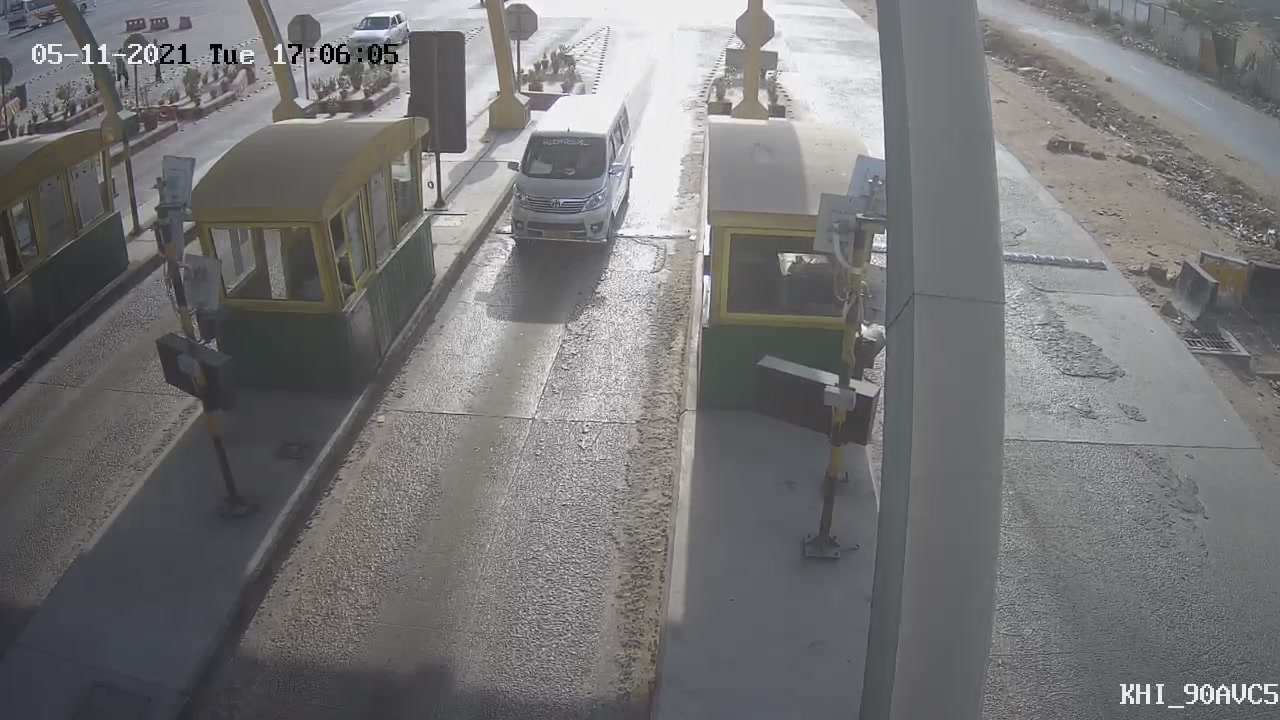F1: (482, 79, 655, 269)
